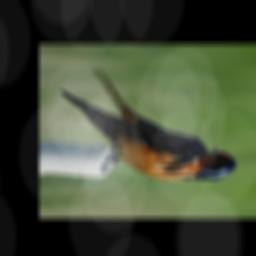Swallow: (60, 64, 241, 184)
